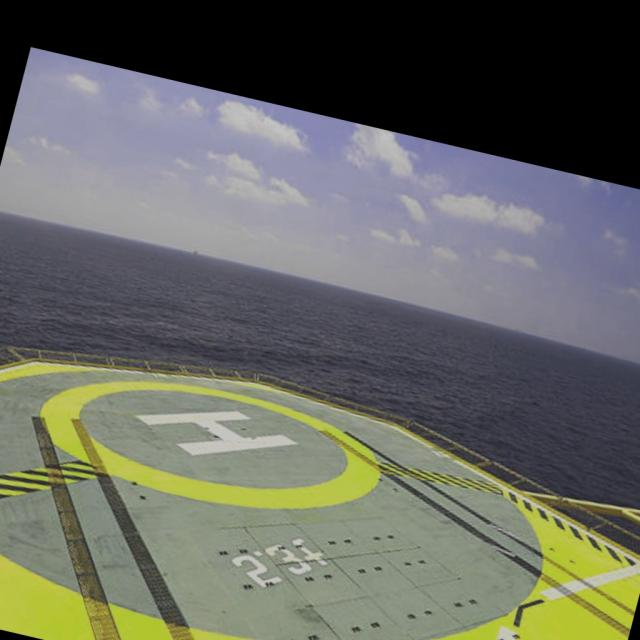helipad: (30, 372, 386, 514)
